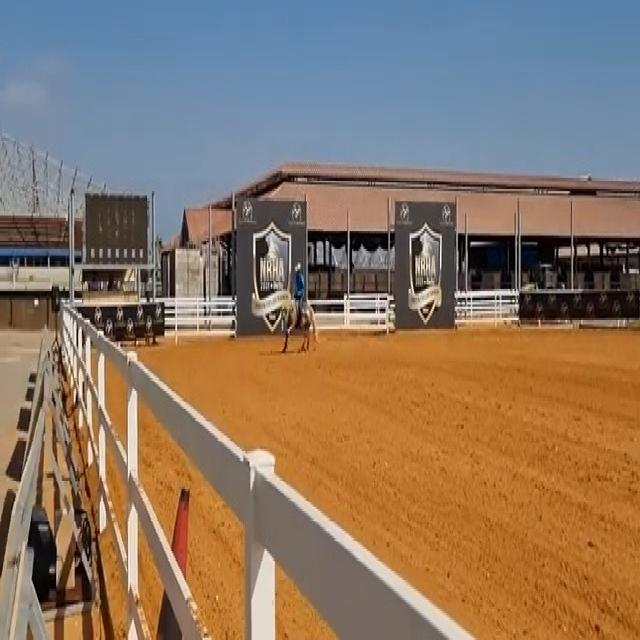horse: (278, 294, 319, 354)
